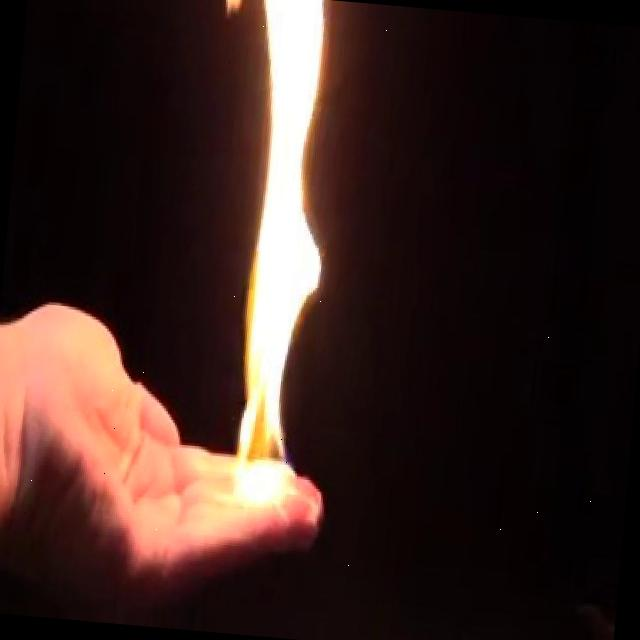fire: (206, 0, 354, 506)
